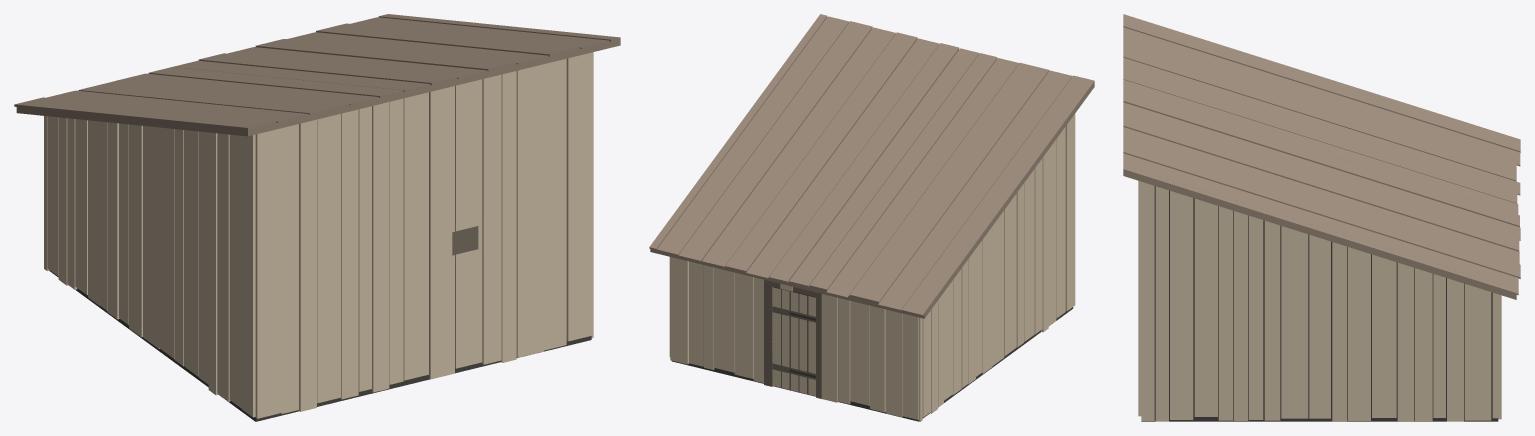
The model's file is recon_1835_blk_south_water_lasalle_d2_09__inferred_1835.glb.
3 views of the same model, side by side, from view 1: azimuth 30°, elevation 25°; view 2: azimuth 150°, elevation 25°; view 3: azimuth 270°, elevation 25° (orthographic). The views are drawn at different scales.
Visible parts, largest first — view 1: recon_1835_blk_south_water_lasalle_d2_09__inferred_1835; view 2: recon_1835_blk_south_water_lasalle_d2_09__inferred_1835; view 3: recon_1835_blk_south_water_lasalle_d2_09__inferred_1835.
Part boxes in pixels (x1=…): recon_1835_blk_south_water_lasalle_d2_09__inferred_1835: x1=14, y1=14, x2=620, y2=421; recon_1835_blk_south_water_lasalle_d2_09__inferred_1835: x1=649, y1=14, x2=1094, y2=421; recon_1835_blk_south_water_lasalle_d2_09__inferred_1835: x1=1123, y1=14, x2=1520, y2=421.
Size of the model in its own units: 5.37 by 4.22 by 5.84.
